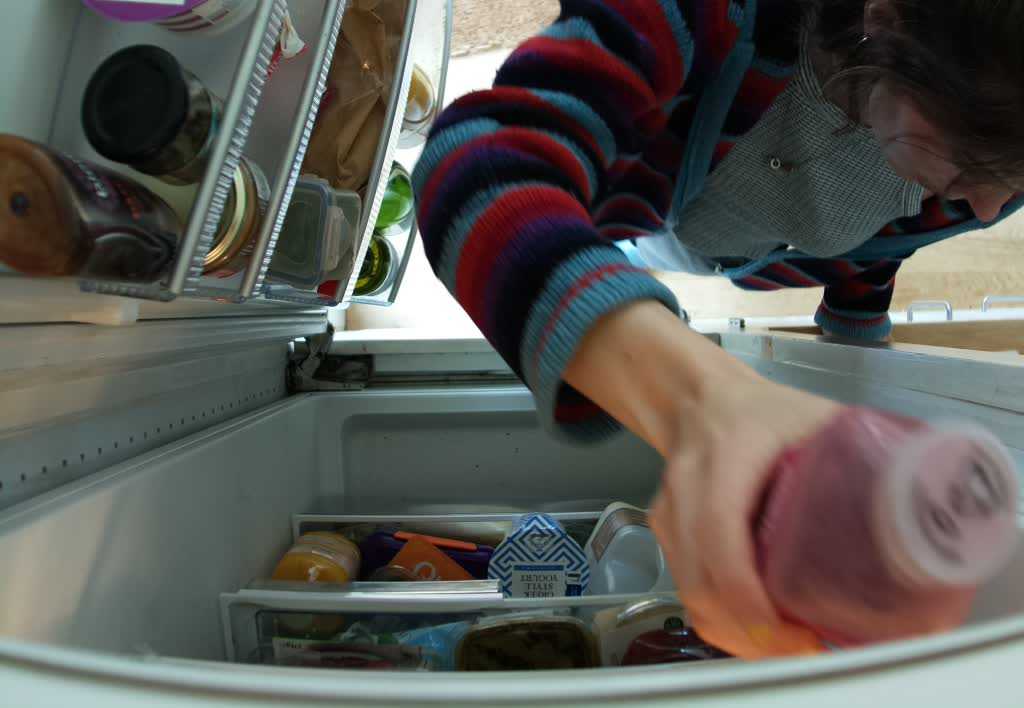juice: (749, 398, 1024, 640)
